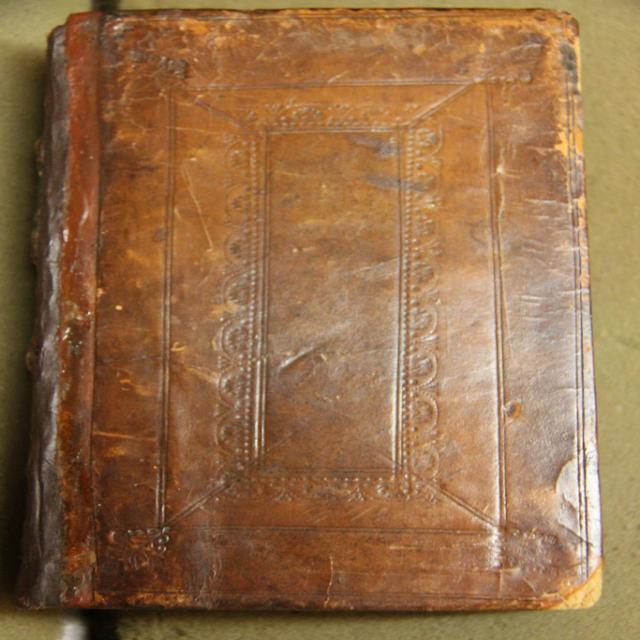book: (14, 6, 606, 610)
